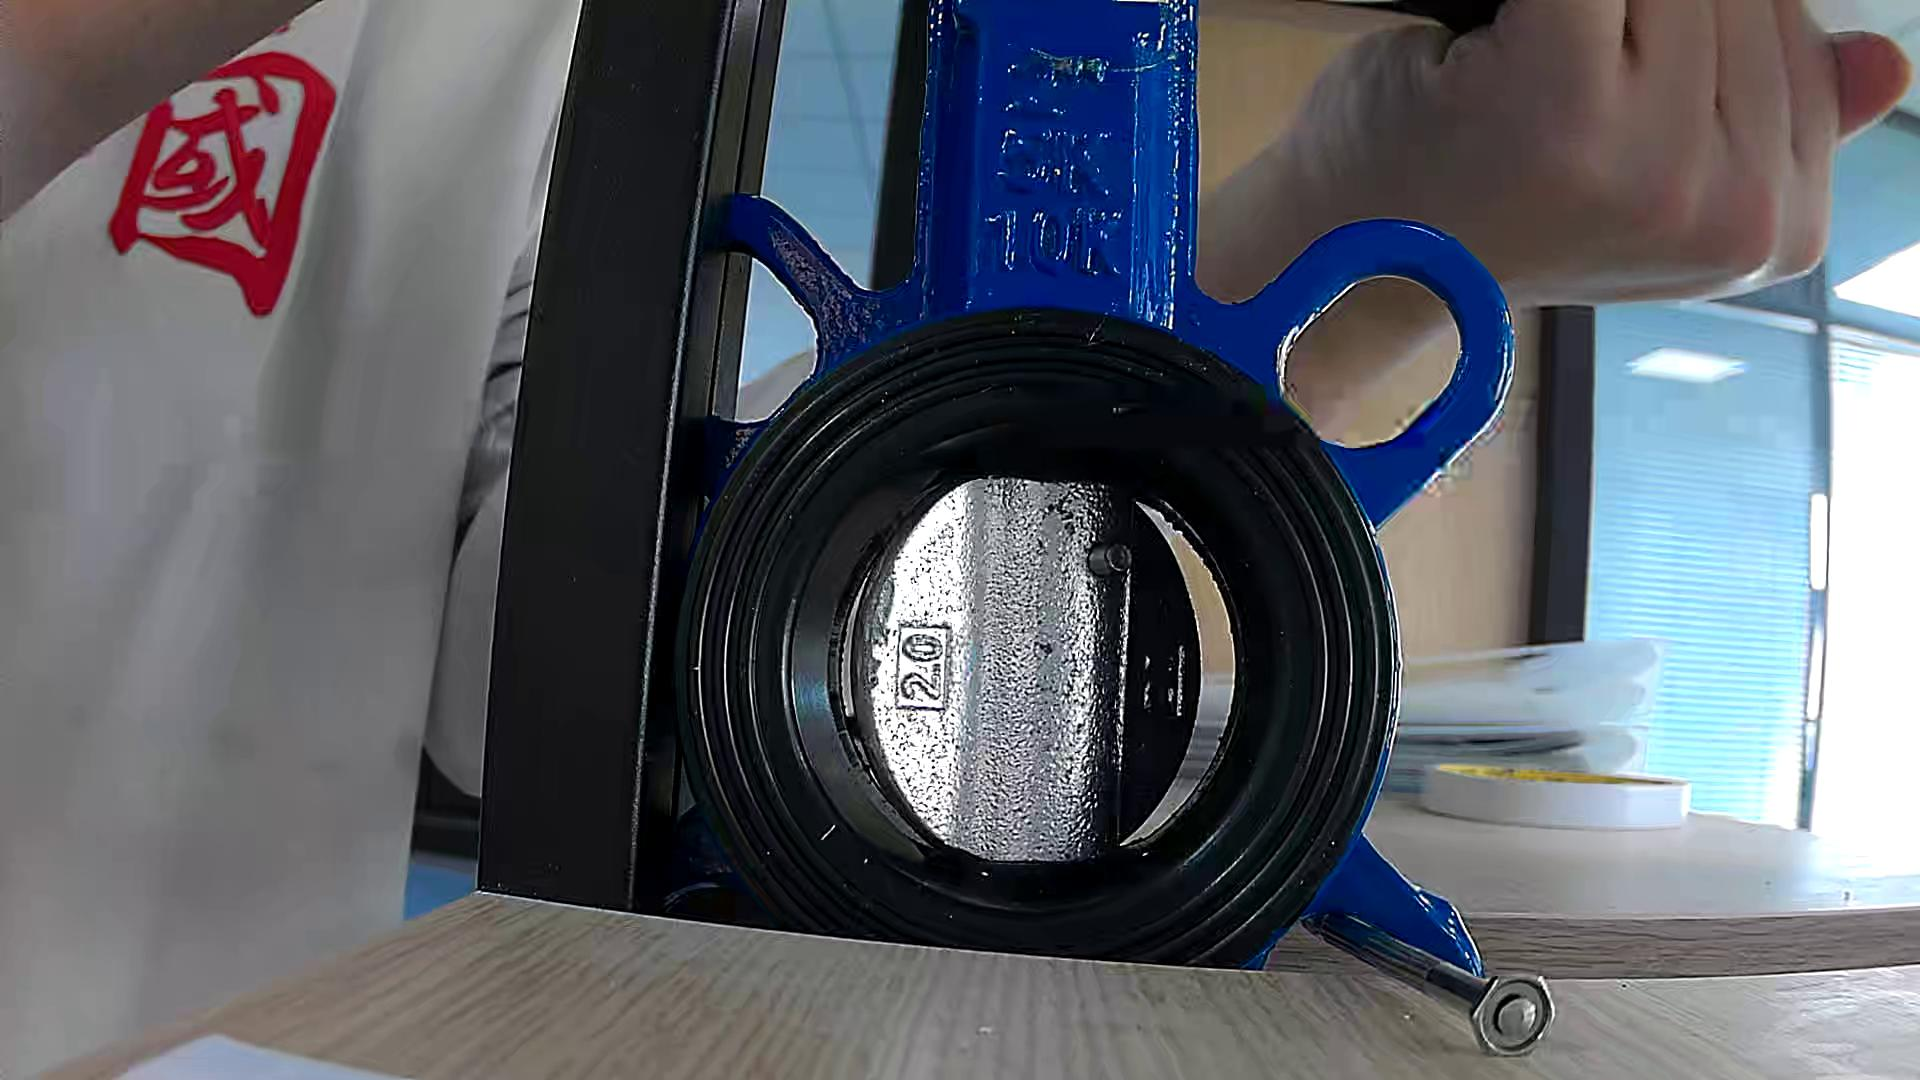valve: (851, 476, 1203, 864)
